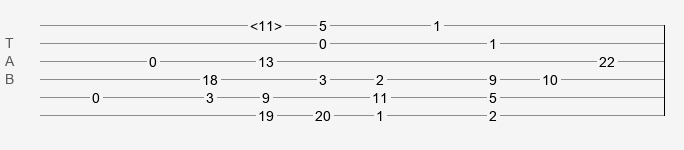0: (92, 90, 100, 100), (149, 54, 157, 64), (319, 36, 327, 46)
1: (376, 108, 384, 118), (433, 18, 441, 28), (489, 36, 497, 46)
10: (542, 72, 558, 82)
11: (372, 90, 388, 100)
13: (258, 54, 274, 64)
18: (202, 72, 218, 82)
19: (258, 108, 274, 118)
2: (376, 72, 384, 82), (489, 108, 497, 118)
20: (315, 108, 331, 118)
22: (599, 54, 615, 64)
3: (206, 90, 214, 100), (319, 72, 327, 82)
5: (319, 18, 327, 28), (489, 90, 497, 100)
9: (262, 90, 270, 100), (489, 72, 497, 82)
harmonic: (250, 18, 282, 28)
